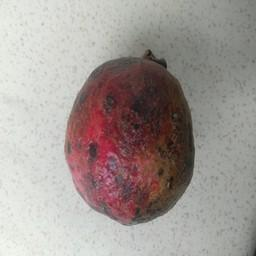Bad_pomegranate: (63, 48, 195, 230)
